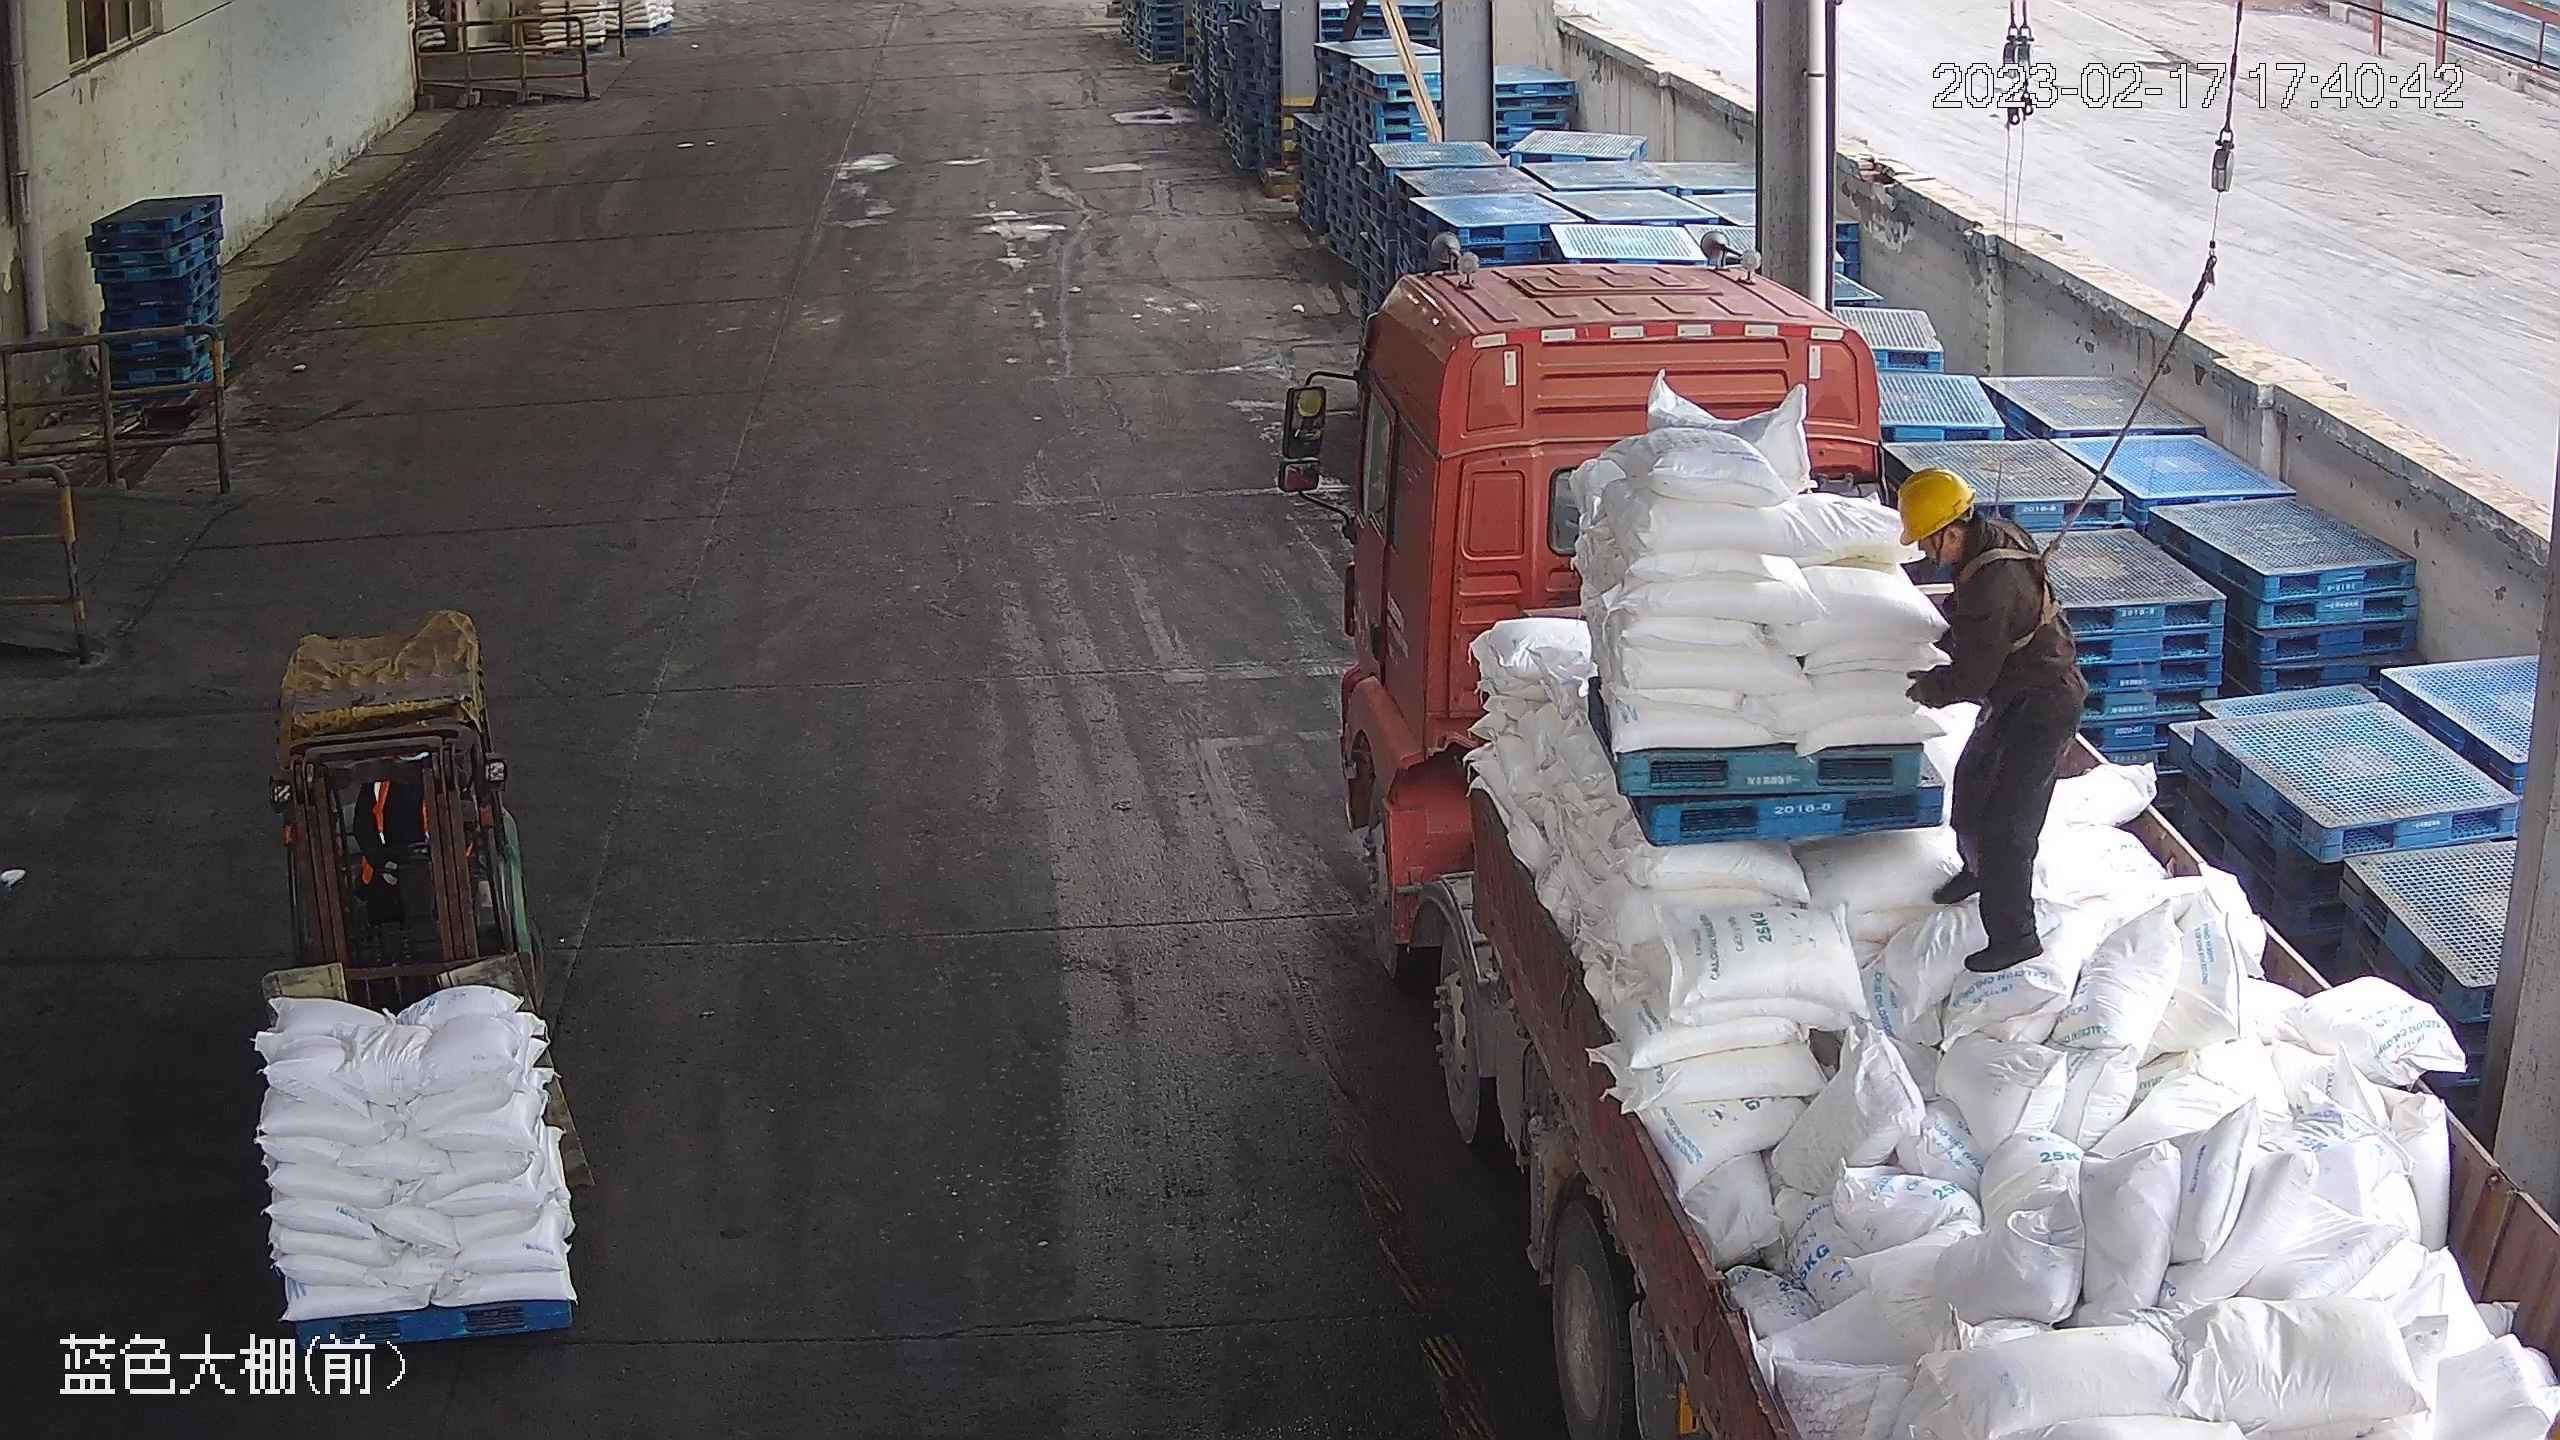belt: (1958, 524, 2073, 654)
head: (1887, 466, 2054, 616)
helmet: (1892, 464, 1976, 547)
people: (1889, 467, 2085, 980)
truck: (1287, 256, 2557, 1439)
